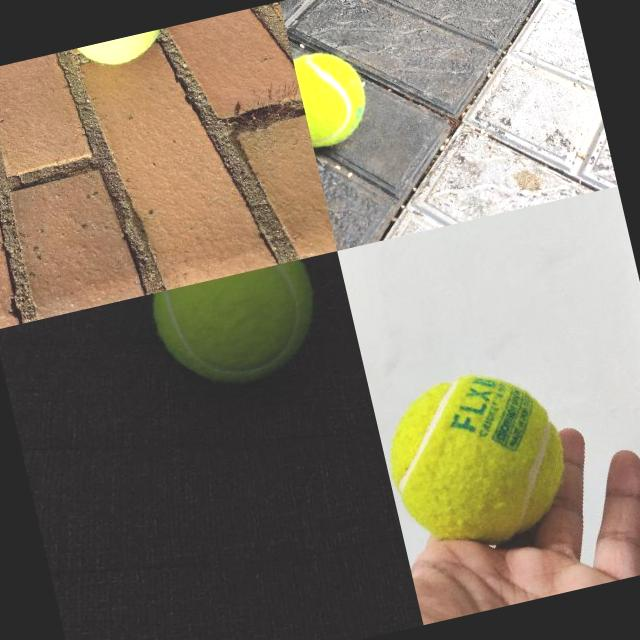tennis-ball: (374, 358, 580, 563), (148, 258, 328, 398), (292, 40, 376, 150), (72, 27, 174, 75)
